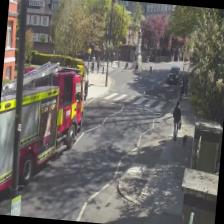person: (171, 100, 183, 140)
